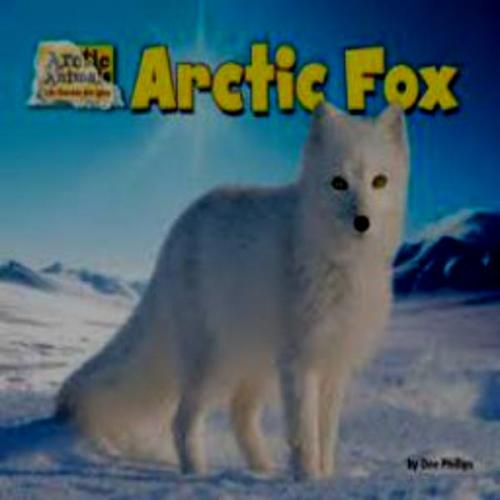arctic_fox-endangered: (73, 105, 406, 465)
